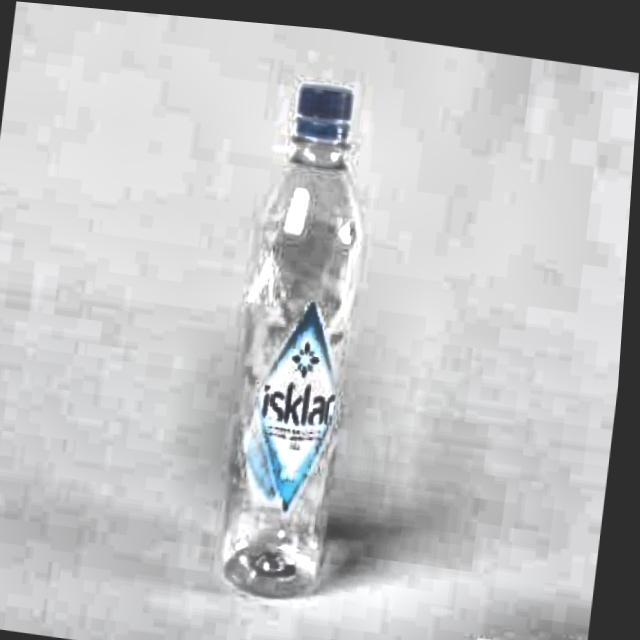Bottles: (209, 60, 405, 624)
